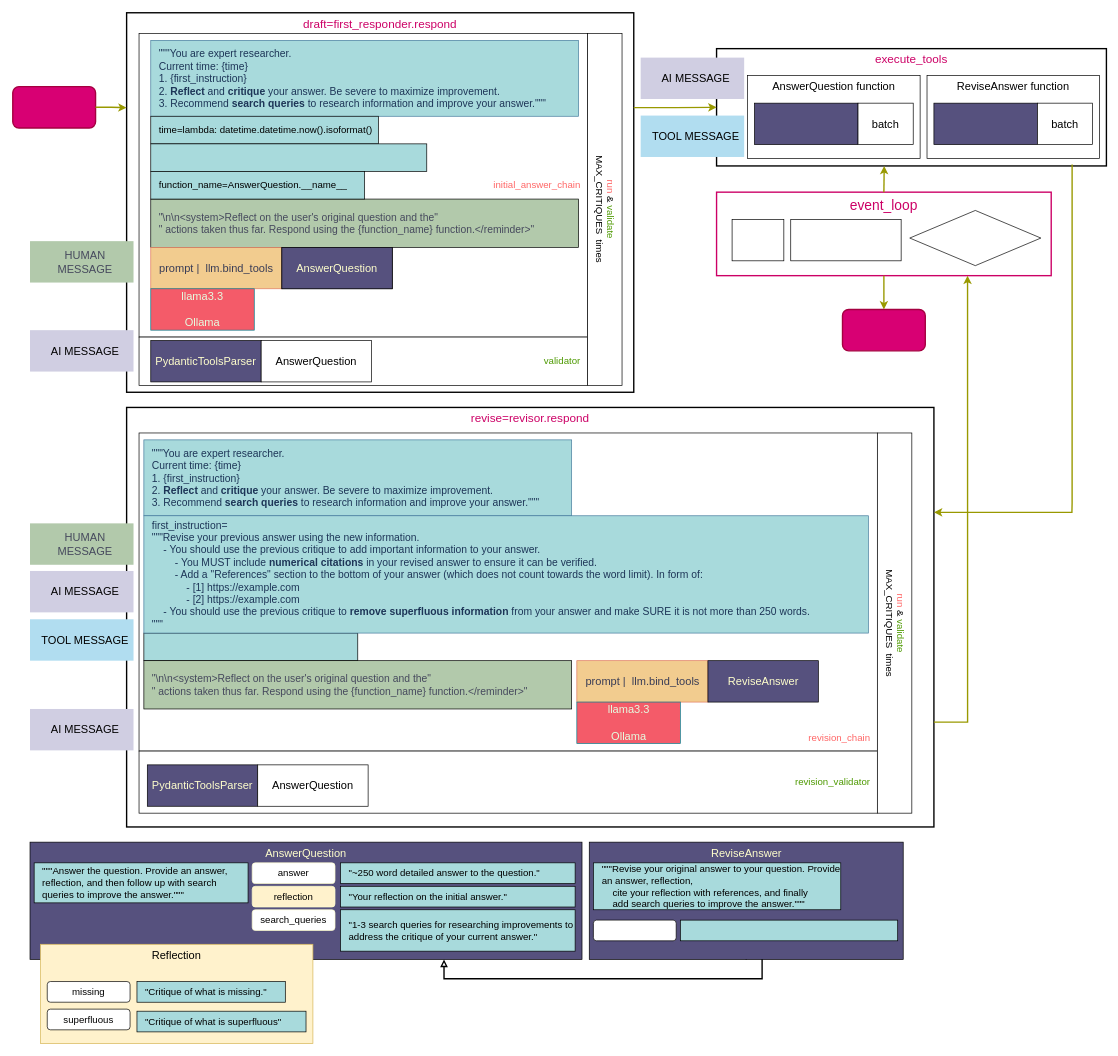
Image size: 1118x1056. Some labels were removed from this diagram. The centre of each missing label's shape, as x and y in pixels:
"Citations motivating your updated answer.": point (789, 930)
> MAX_ITERATIONS: point (975, 238)
duck_duck_go: point (806, 123)
END: point (883, 329)
first_instruction="Provide a detailed ~250 word answer.": point (288, 157)
function_name=ReviseAnswer.__name__: point (250, 646)
i += 1: point (757, 240)
not in {"tool", "ai"}: point (845, 240)
references: point (634, 930)
START: point (54, 107)
TavilySearch: point (985, 123)
